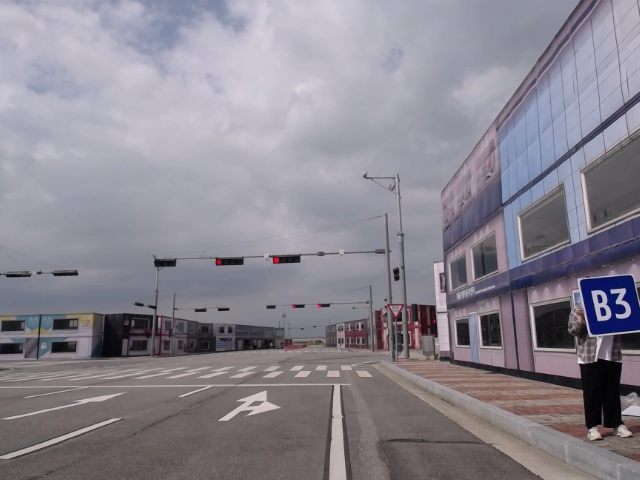delivery_b3: (575, 275, 639, 336)
red_4: (271, 253, 301, 266), (213, 255, 245, 266), (315, 301, 333, 308), (291, 303, 308, 310)
